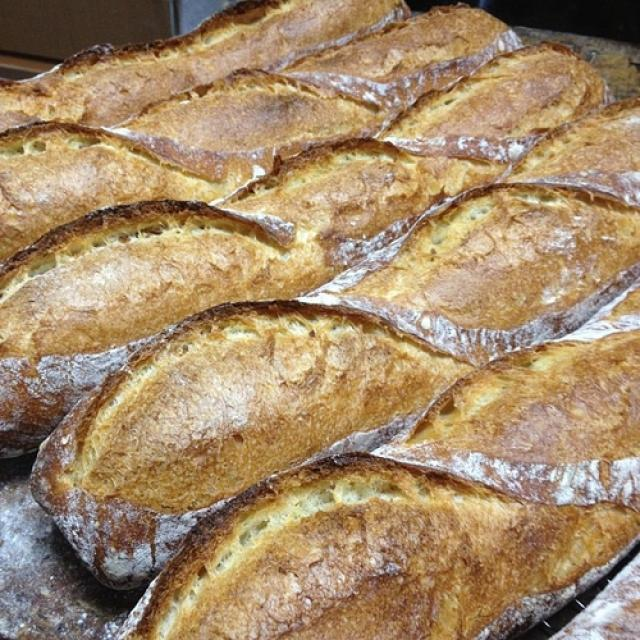Bread: (6, 13, 640, 640)
